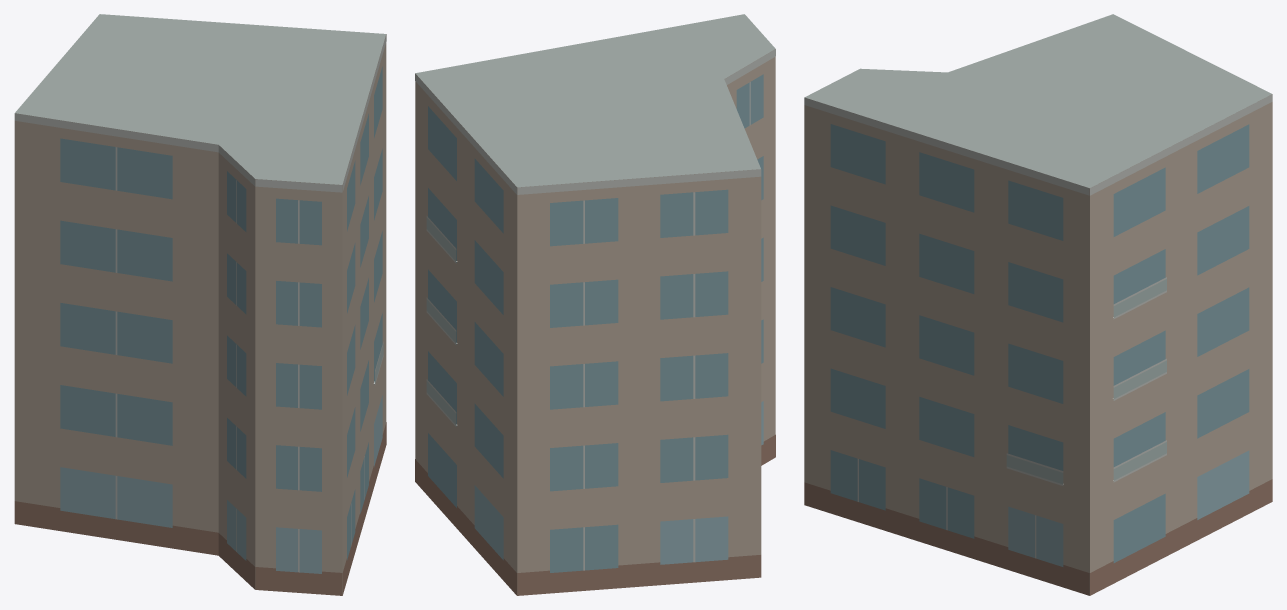
File: survey-upis-32797113.glb
3 views of the same model, side by side, from view 1: azimuth 30°, elevation 25°; view 2: azimuth 150°, elevation 25°; view 3: azimuth 270°, elevation 25° (orthographic).
Parts seen in each view (by area): view 1: survey-upis-32797113.tmp; view 2: survey-upis-32797113.tmp; view 3: survey-upis-32797113.tmp.
Boxes of the visible parts, x1,y1,x2,y2 form: survey-upis-32797113.tmp: (14, 14, 386, 595); survey-upis-32797113.tmp: (415, 14, 775, 595); survey-upis-32797113.tmp: (804, 14, 1272, 595).
Size of the model in its own units: 12.03 by 13.12 by 13.66.
